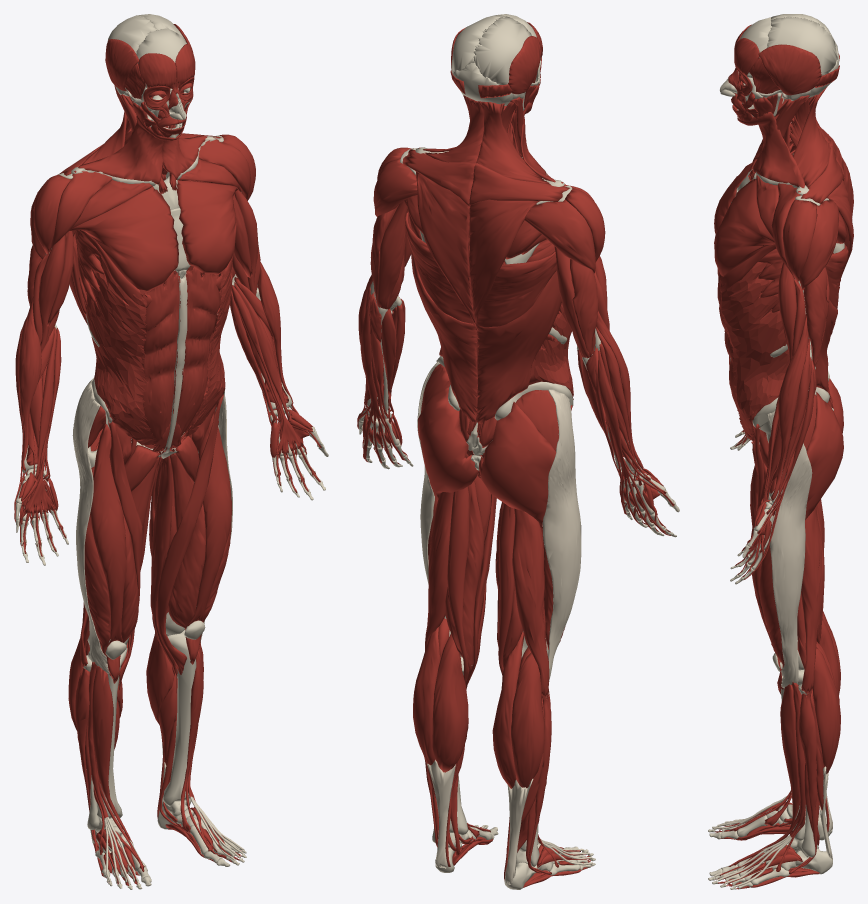
File: male-anatomy.full.glb
3 views of the same model, side by side, from view 1: azimuth 30°, elevation 25°; view 2: azimuth 150°, elevation 25°; view 3: azimuth 270°, elevation 25° (orthographic). The views are drawn at different scales.
Visible parts, largest first — view 1: External abdominal oblique muscle right, Sternocostal head of pectoralis major muscle right, Rectus femoris muscle right, Sternocostal head of pectoralis major muscle left, Rectus abdominis muscle right, Rectus abdominis muscle left, Rectus femoris muscle left, Sartorius muscle left, Iliotibial tract right, Platysma right, Tibia left, Vastus medialis muscle left (+47 smaller); view 2: Latissimus dorsi muscle right, Iliotibial tract right, Latissimus dorsi muscle left, Gluteus maximus muscle right, Descending part of trapezius muscle left, Long head of biceps femoris right, Descending part of trapezius muscle right, Gluteus maximus muscle left, Medial head of gastrocnemius left, Lateral head of gastrocnemius right, Scapular spinal part of deltoid muscle right, Semitendinosus muscle left (+38 smaller); view 3: External abdominal oblique muscle left, Iliotibial tract left, Sternocostal head of pectoralis major muscle left, Long head of biceps femoris left, Gluteus maximus muscle left, Temporoparietalis muscle left, Lateral head of gastrocnemius left, Platysma left, Parietal bone left, Brachioradialis muscle left, Acromial part of deltoid muscle left, Scapular spinal part of deltoid muscle left (+41 smaller).
Part boxes in pixels (left/top/right/bottom): External abdominal oblique muscle right: left=85, top=256, right=180, bottom=445; Sternocostal head of pectoralis major muscle right: left=69, top=186, right=178, bottom=292; Rectus femoris muscle right: left=89, top=424, right=126, bottom=683; Sternocostal head of pectoralis major muscle left: left=177, top=180, right=237, bottom=275; Rectus abdominis muscle right: left=143, top=272, right=179, bottom=451; Rectus abdominis muscle left: left=171, top=267, right=219, bottom=448; Rectus femoris muscle left: left=186, top=413, right=232, bottom=664; Sartorius muscle left: left=156, top=394, right=223, bottom=674; Iliotibial tract right: left=72, top=377, right=109, bottom=673; Platysma right: left=78, top=115, right=174, bottom=184; Tibia left: left=163, top=630, right=196, bottom=806; Vastus medialis muscle left: left=168, top=504, right=205, bottom=650; Latissimus dorsi muscle right: left=476, top=251, right=561, bottom=423; Iliotibial tract right: left=542, top=389, right=581, bottom=680; Latissimus dorsi muscle left: left=405, top=212, right=477, bottom=421; Gluteus maximus muscle right: left=479, top=402, right=556, bottom=524; Descending part of trapezius muscle left: left=415, top=171, right=476, bottom=325; Long head of biceps femoris right: left=512, top=508, right=549, bottom=696; Descending part of trapezius muscle right: left=469, top=199, right=539, bottom=326; Gluteus maximus muscle left: left=418, top=387, right=478, bottom=499; Medial head of gastrocnemius left: left=432, top=634, right=468, bottom=772; Lateral head of gastrocnemius right: left=511, top=652, right=544, bottom=788; Scapular spinal part of deltoid muscle right: left=524, top=200, right=595, bottom=273; Semitendinosus muscle left: left=447, top=486, right=469, bottom=682; External abdominal oblique muscle left: left=719, top=262, right=789, bottom=440; Iliotibial tract left: left=767, top=410, right=812, bottom=688; Sternocostal head of pectoralis major muscle left: left=714, top=179, right=774, bottom=276; Long head of biceps femoris left: left=801, top=506, right=824, bottom=693; Gluteus maximus muscle left: left=805, top=392, right=843, bottom=519; Temporoparietalis muscle left: left=758, top=44, right=821, bottom=95; Lateral head of gastrocnemius left: left=812, top=647, right=840, bottom=773; Platysma left: left=737, top=112, right=805, bottom=188; Parietal bone left: left=767, top=17, right=837, bottom=75; Brachioradialis muscle left: left=771, top=314, right=808, bottom=500; Acromial part of deltoid muscle left: left=782, top=199, right=817, bottom=281; Scapular spinal part of deltoid muscle left: left=799, top=200, right=838, bottom=290.
Size of the model in its own units: 0.6692 by 1.7 by 0.2674.
